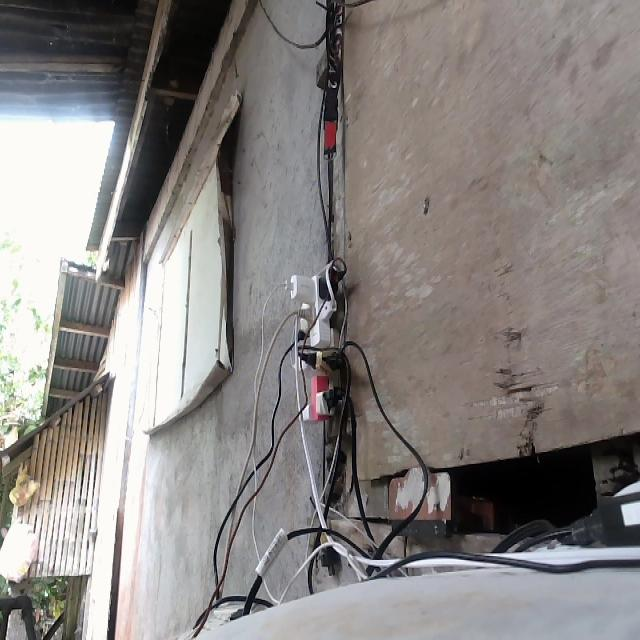-: (283, 265, 351, 420)
